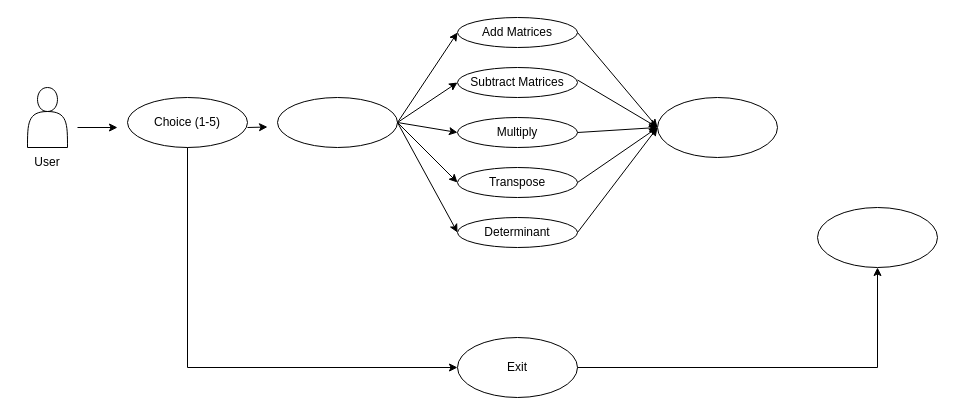
Image size: 955x415. Some labels were removed from this diagram. Here are the shapes that lost their labels. From the top down, the box of each, then its label:
(276, 96, 398, 148): Matrices Inputs
(656, 96, 778, 158): Display Output
(816, 206, 938, 268): Exit Program
